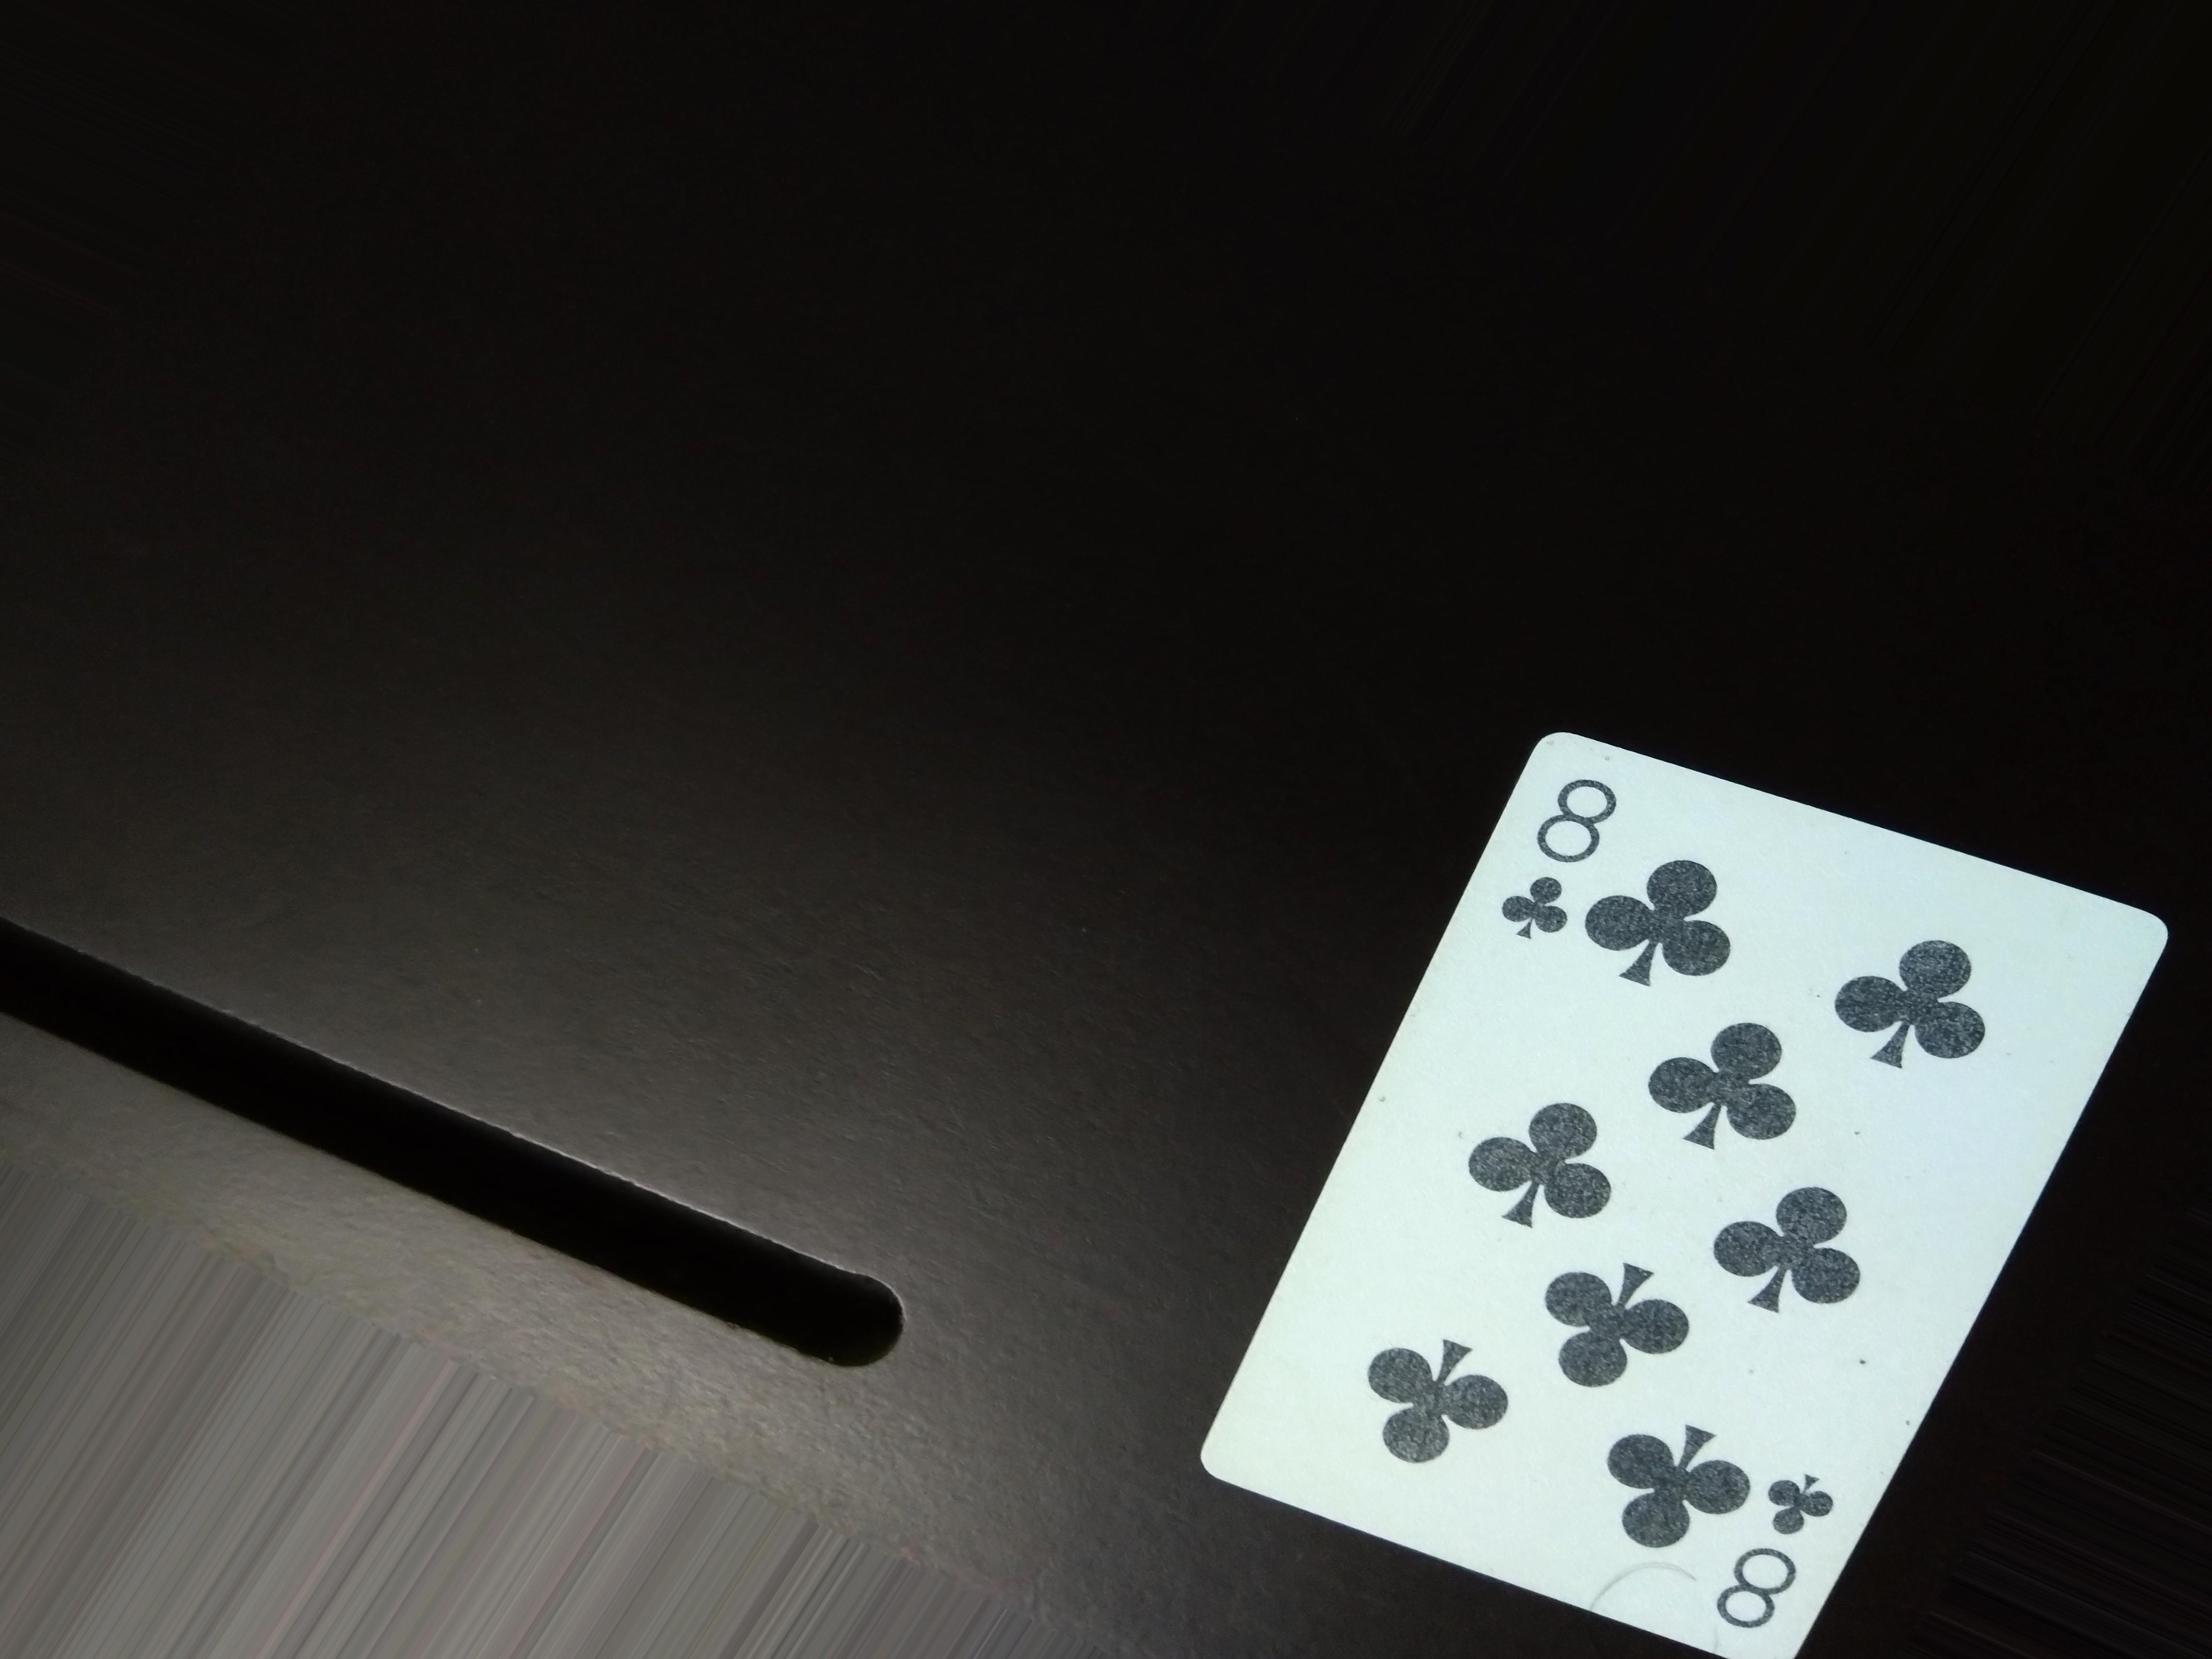8C: (1721, 1455, 1865, 1643)
